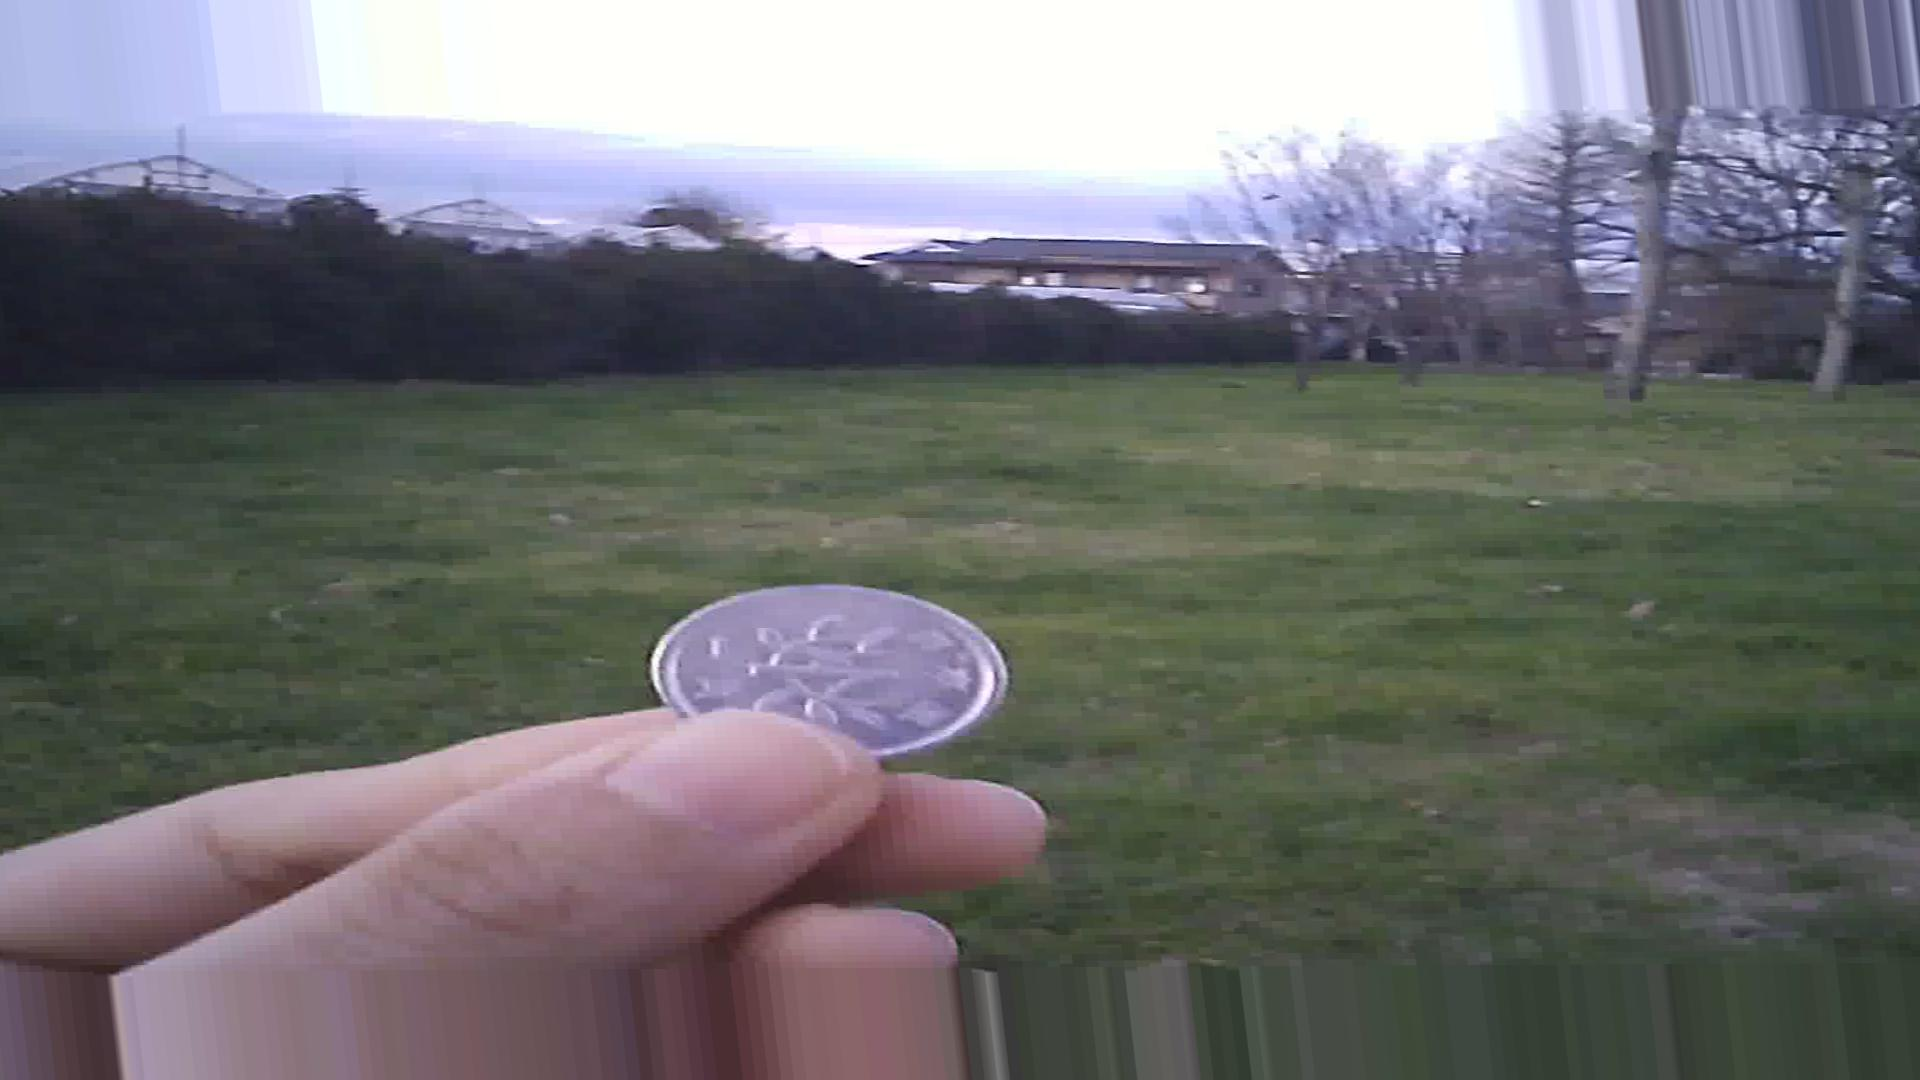1 Yen: (645, 580, 1017, 786)
